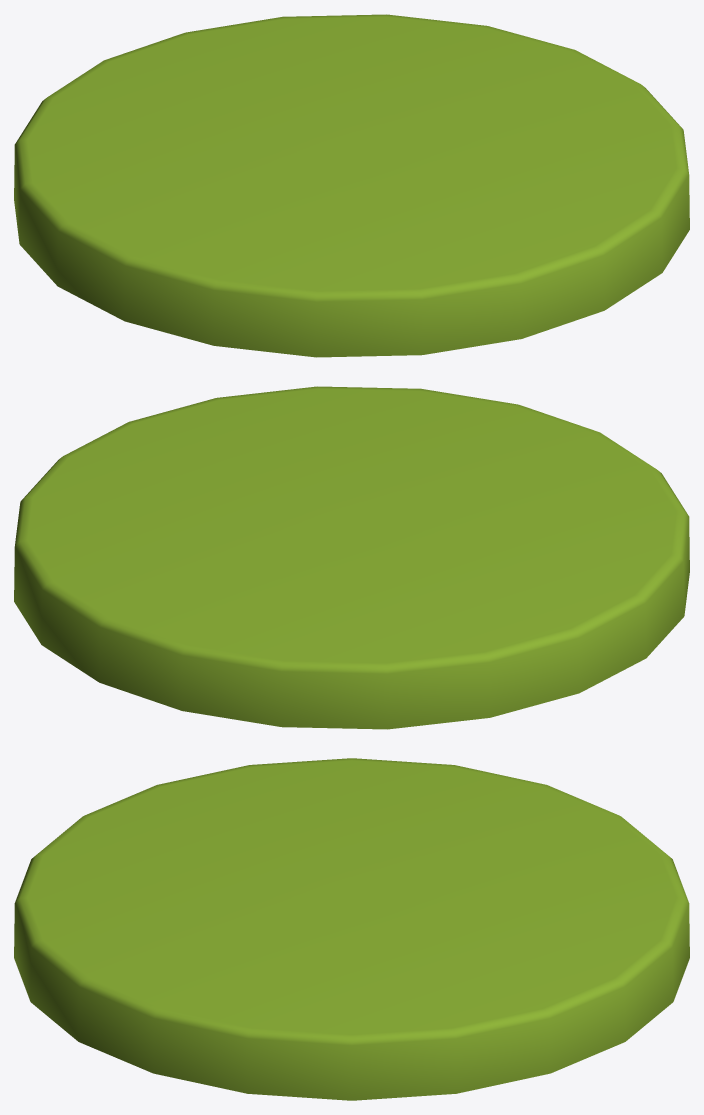
Rendered from Ground.fbx.
3 renders of one model, top to bottom at view 1: azimuth 30°, elevation 25°; view 2: azimuth 150°, elevation 25°; view 3: azimuth 270°, elevation 25°, orthographic.
Visible parts, largest first — view 1: Ground; view 2: Ground; view 3: Ground.
Part boxes in pixels (x1,y1,x2,y2): Ground: (14,14,689,357); Ground: (14,386,689,729); Ground: (14,758,689,1100).
Size of the model in its own units: 5200 by 512 by 5200.
